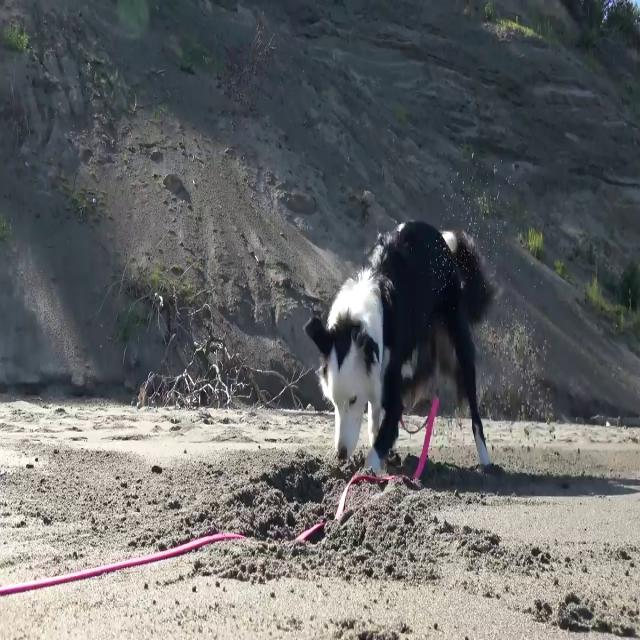Dog: (303, 220, 492, 474)
